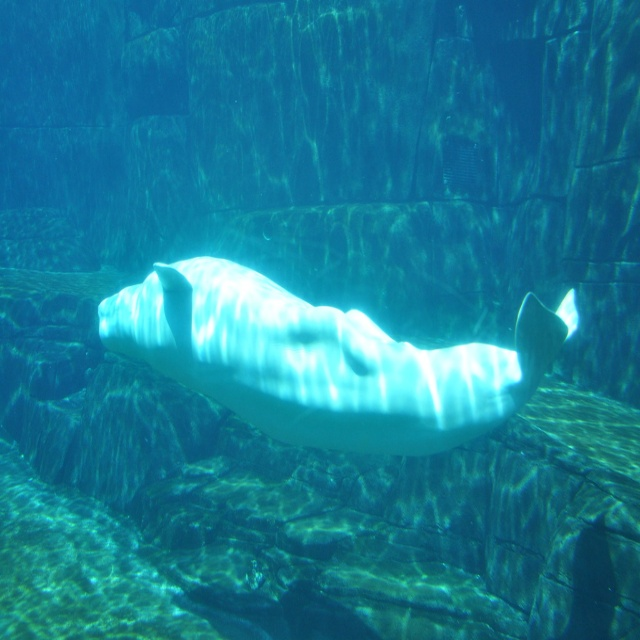Whale: (98, 256, 579, 457)
